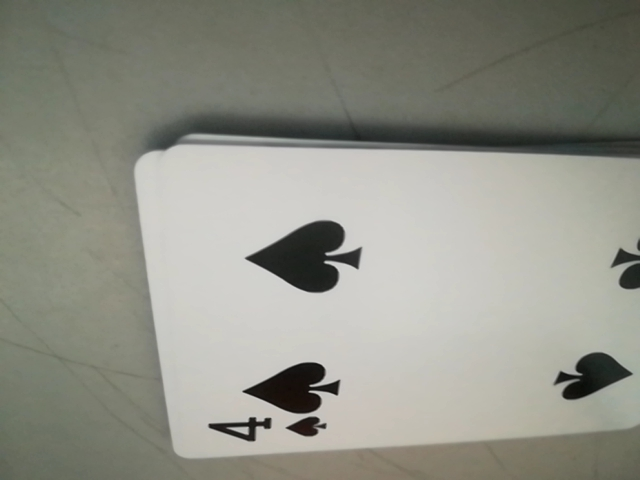ht 4: (194, 407, 340, 455)
